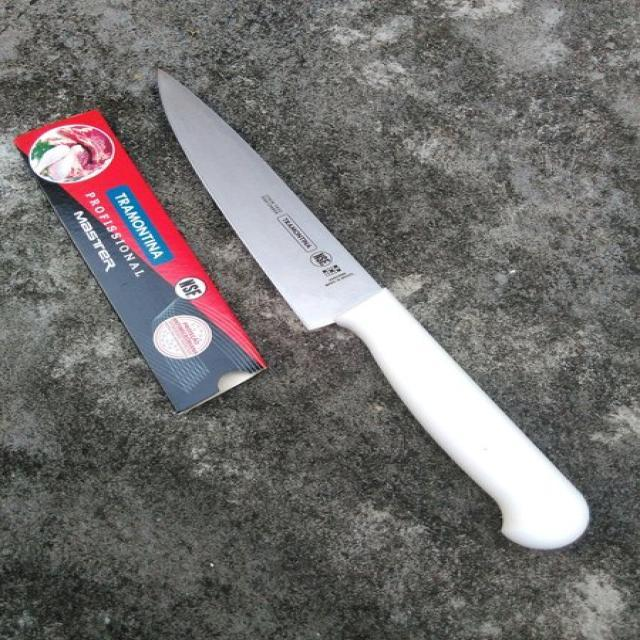Pisau: (123, 42, 612, 575)
